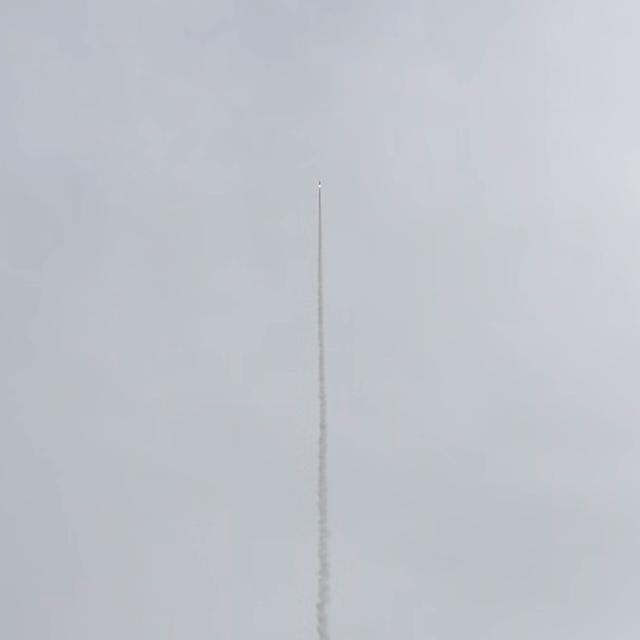smoke_trail_with_rocket: (316, 182, 330, 640)
